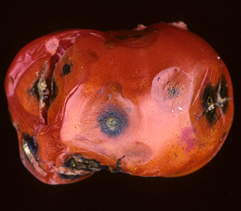anthracnose: (24, 61, 72, 130), (184, 76, 231, 131)
